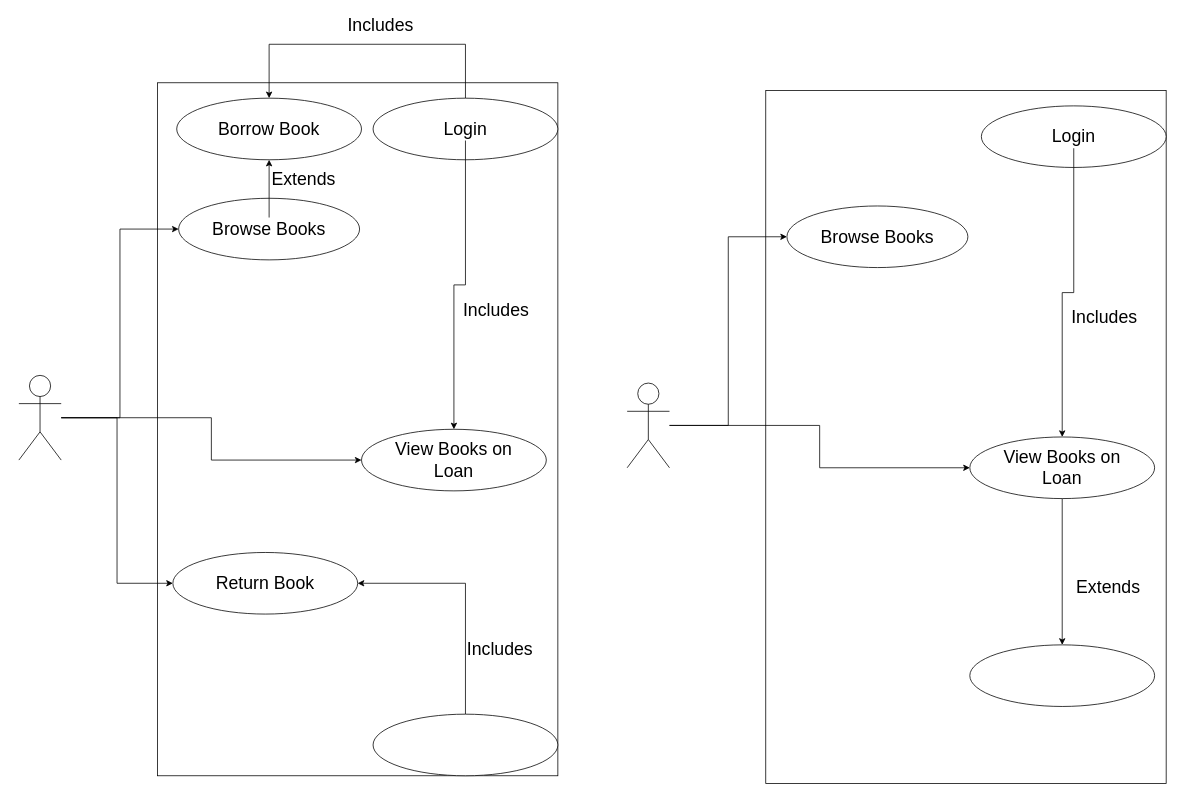
The diagram is 1180 pixels wide and 797 high, and some of its shapes have lost their labels. The box of each missing label's shape, as (x1, y1, x2, y2) in pixels:
Citizen: (18, 375, 61, 460)
Librarian: (626, 382, 670, 468)
Manually Mark (Returned/Lost): (969, 644, 1155, 706)
Scan Book: (372, 713, 558, 776)
